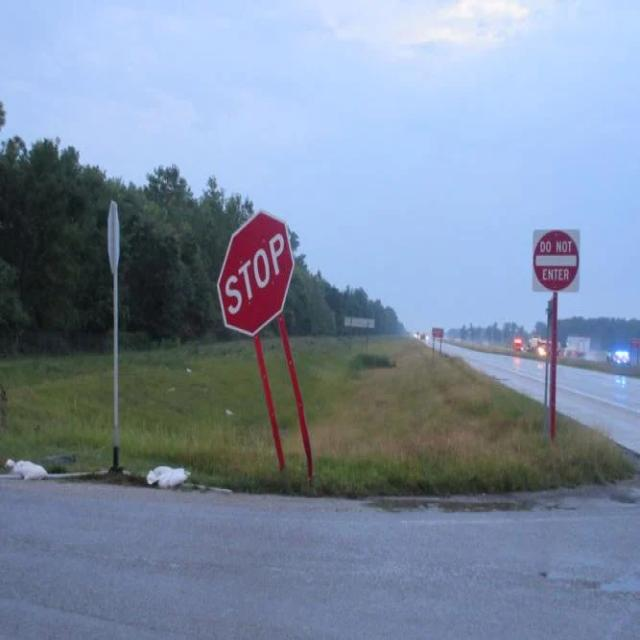Inclined Pole: (215, 208, 319, 477)
